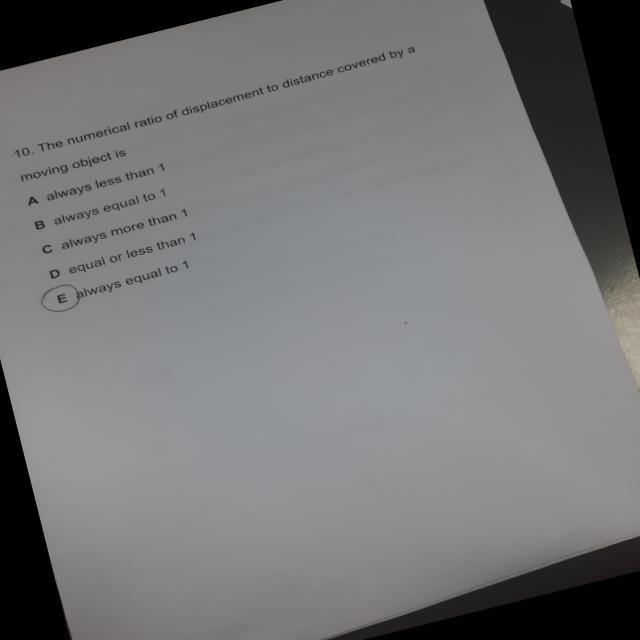E: (36, 281, 87, 318)
